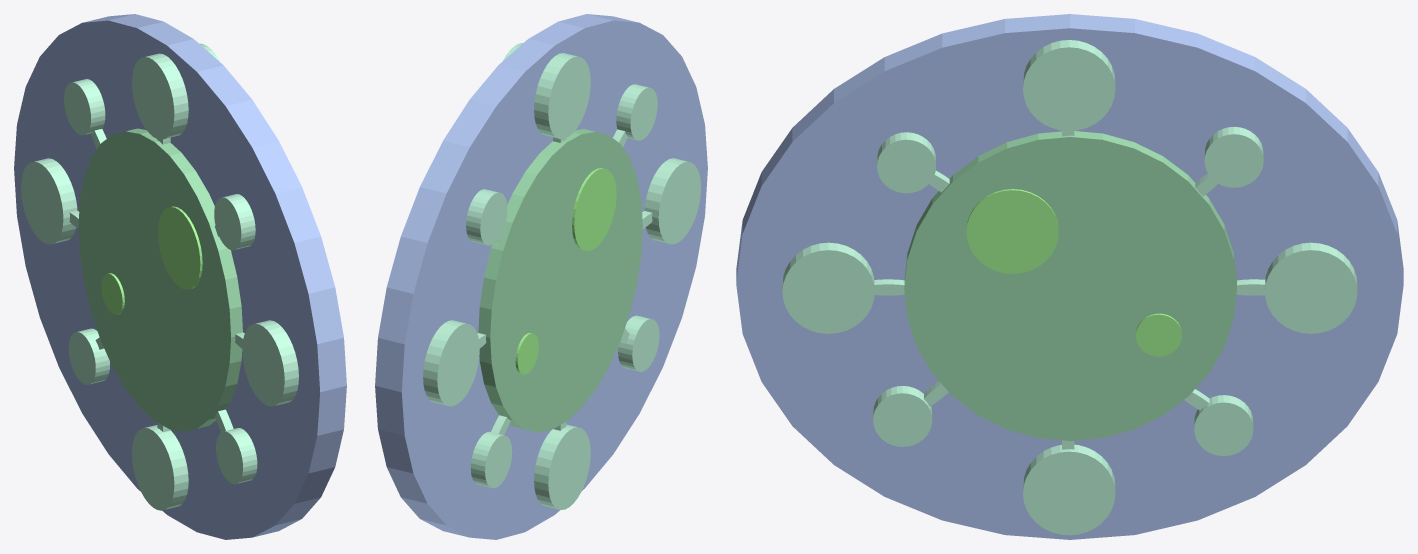
The model's file is Covid.glb.
The picture shows the model from 3 angles, left to right: view 1: azimuth 30°, elevation 25°; view 2: azimuth 150°, elevation 25°; view 3: azimuth 270°, elevation 25°; orthographic projection. The views are drawn at different scales.
Parts seen in each view (by area): view 1: Circle, Exterior.001, Exterior.004, Exterior.003, Exterior.005, Exterior.002, Exterior.017, Exterior.007, Exterior.008, Exterior, Exterior.006, Exterior.018; view 2: Circle, Exterior.001, Exterior.004, Exterior.002, Exterior.005, Exterior.003, Exterior.017, Exterior, Exterior.006, Exterior.008, Exterior.007, Exterior.018; view 3: Circle, Exterior.001, Exterior.002, Exterior.003, Exterior.004, Exterior.005, Exterior.017, Exterior, Exterior.008, Exterior.007, Exterior.006, Exterior.018.
Boxes of the visible parts, bbox=[...] form: Circle: bbox=[14, 14, 346, 539]; Exterior.001: bbox=[78, 128, 242, 431]; Exterior.004: bbox=[132, 43, 219, 139]; Exterior.003: bbox=[242, 320, 298, 406]; Exterior.005: bbox=[132, 425, 188, 510]; Exterior.002: bbox=[21, 158, 77, 244]; Exterior.017: bbox=[158, 206, 202, 289]; Exterior.007: bbox=[216, 428, 257, 484]; Exterior.008: bbox=[214, 194, 255, 250]; Exterior: bbox=[64, 79, 105, 135]; Exterior.006: bbox=[68, 328, 109, 384]; Exterior.018: bbox=[101, 273, 124, 314]; Circle: bbox=[375, 14, 707, 539]; Exterior.001: bbox=[478, 129, 642, 432]; Exterior.004: bbox=[503, 43, 590, 139]; Exterior.002: bbox=[423, 320, 479, 406]; Exterior.005: bbox=[534, 424, 590, 509]; Exterior.003: bbox=[644, 158, 700, 244]; Exterior.017: bbox=[572, 168, 616, 251]; Exterior: bbox=[466, 189, 507, 245]; Exterior.006: bbox=[470, 431, 512, 488]; Exterior.008: bbox=[616, 84, 657, 140]; Exterior.007: bbox=[618, 315, 659, 371]; Exterior.018: bbox=[515, 333, 538, 374]; Circle: bbox=[736, 14, 1403, 539]; Exterior.001: bbox=[904, 131, 1236, 440]; Exterior.002: bbox=[1265, 242, 1357, 333]; Exterior.003: bbox=[782, 242, 874, 333]; Exterior.004: bbox=[1023, 40, 1115, 130]; Exterior.005: bbox=[1023, 444, 1115, 535]; Exterior.017: bbox=[966, 189, 1058, 273]; Exterior: bbox=[1204, 126, 1263, 187]; Exterior.008: bbox=[877, 132, 935, 193]; Exterior.007: bbox=[873, 386, 932, 446]; Exterior.006: bbox=[1194, 395, 1253, 455]; Exterior.018: bbox=[1136, 313, 1181, 356].
Size of the model in its own units: 0.3755 by 3.06 by 3.61.
